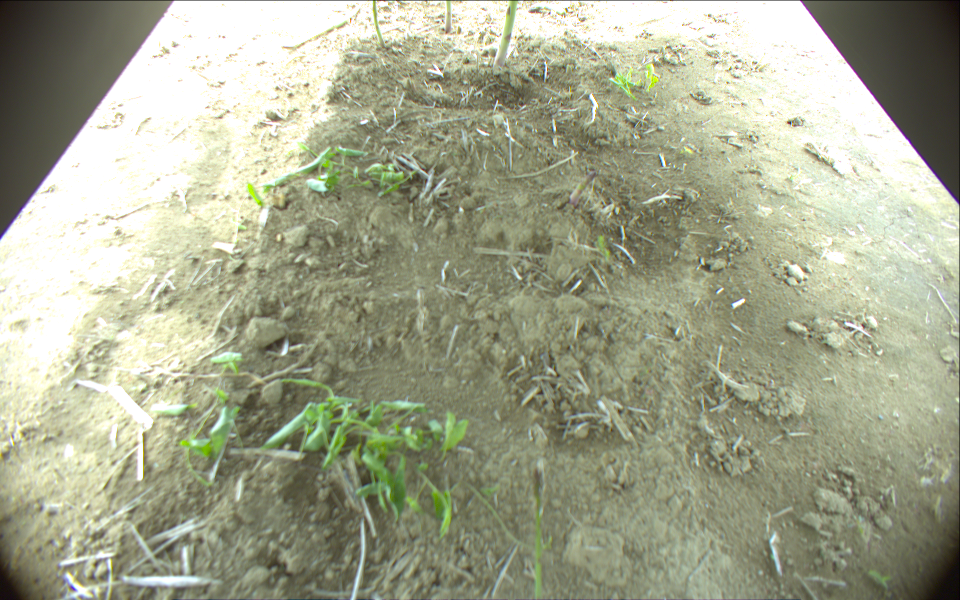aspa: (283, 4, 365, 50), (527, 466, 547, 600), (494, 1, 517, 71), (565, 170, 595, 207), (372, 1, 386, 47), (445, 1, 453, 32)
